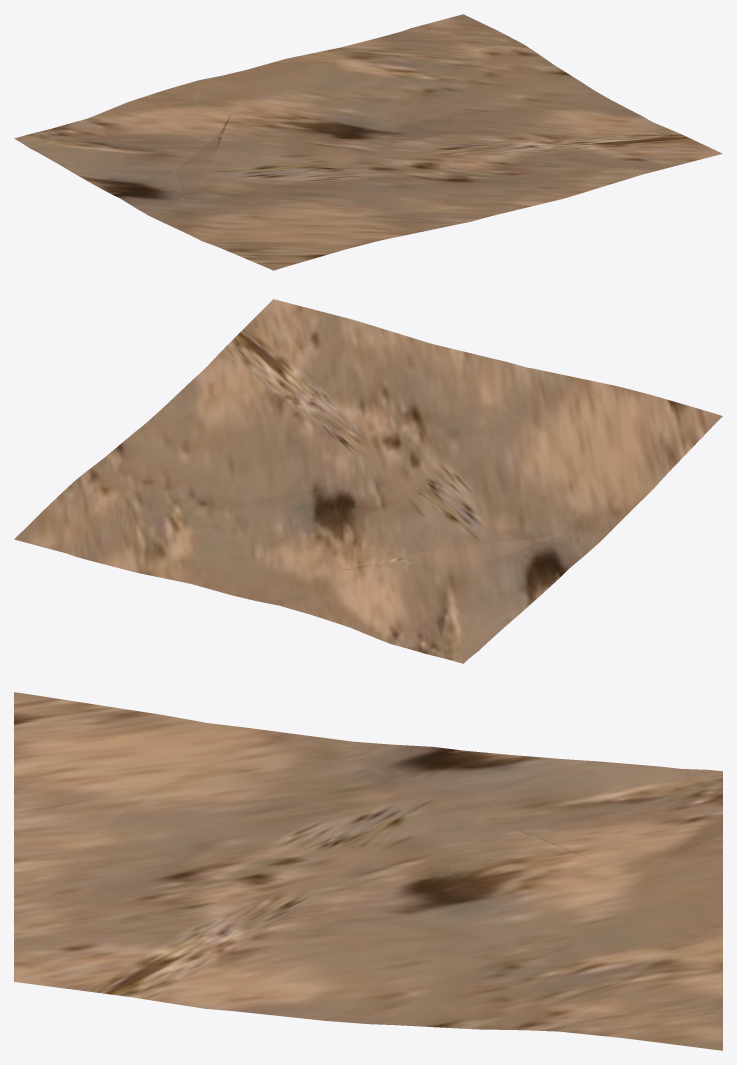
3 renders of one model, top to bottom at view 1: azimuth 30°, elevation 25°; view 2: azimuth 150°, elevation 25°; view 3: azimuth 270°, elevation 25°, orthographic. The views are drawn at different scales.
Size of the model in its own units: 2.09 by 0.2893 by 2.09.
2 materials, 2 textured.
